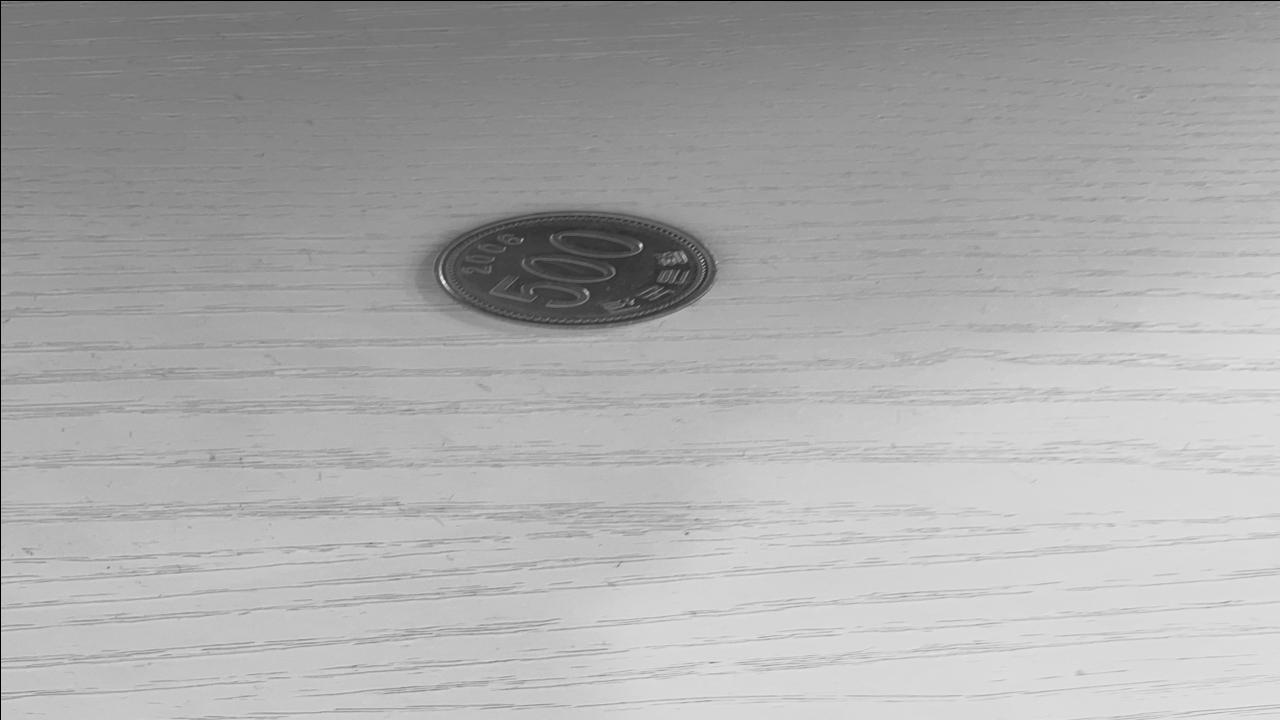coin: (426, 209, 722, 331)
